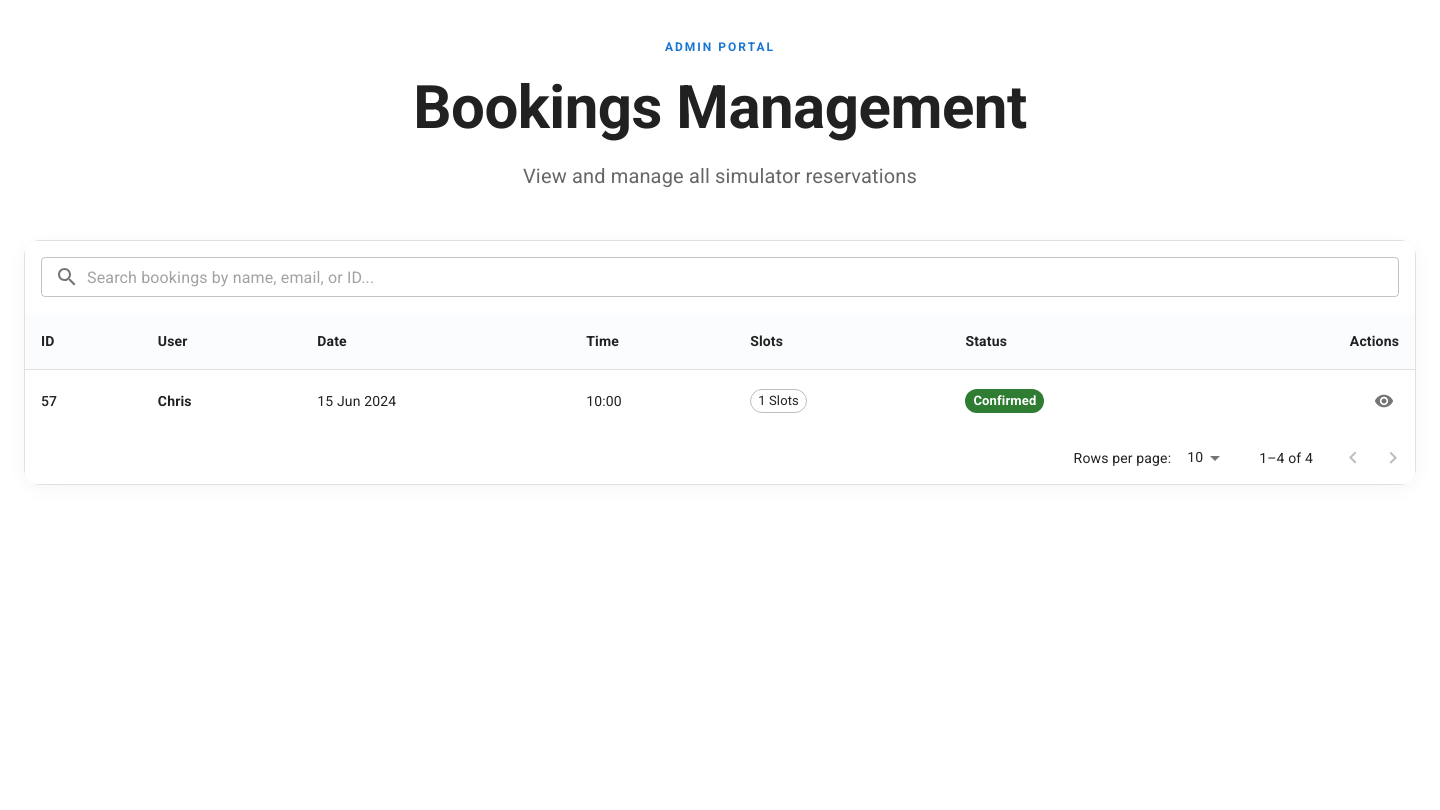
AdminBookings › uses default success copy for extend 2 hours when API omits message
Click the text "Chris": [175, 401] box x1=158 y1=393 x2=192 y2=409
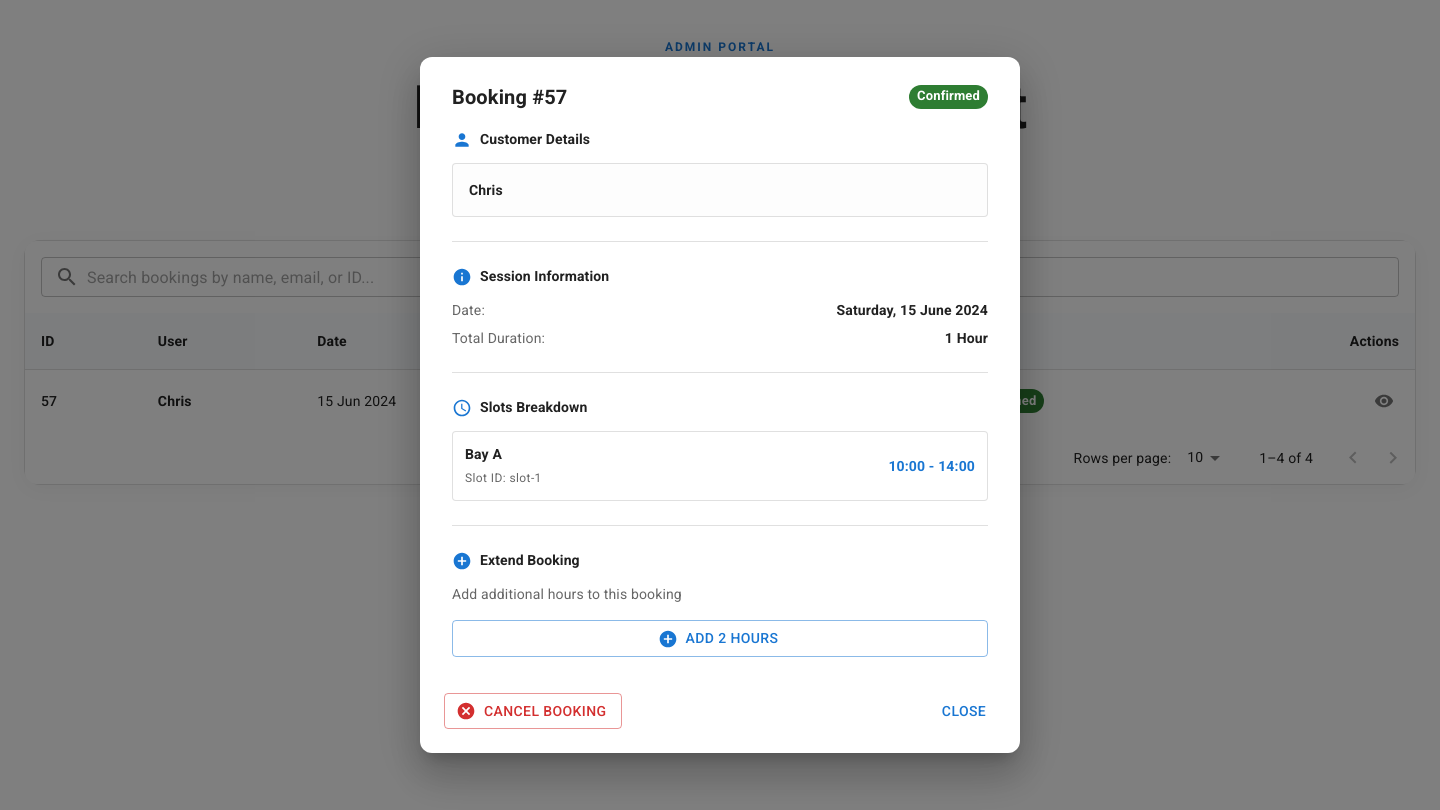
expect the button "Add 2 Hours" is shown: met
Click the button "Add 2 Hours": [720, 639] box x1=452 y1=620 x2=988 y2=657
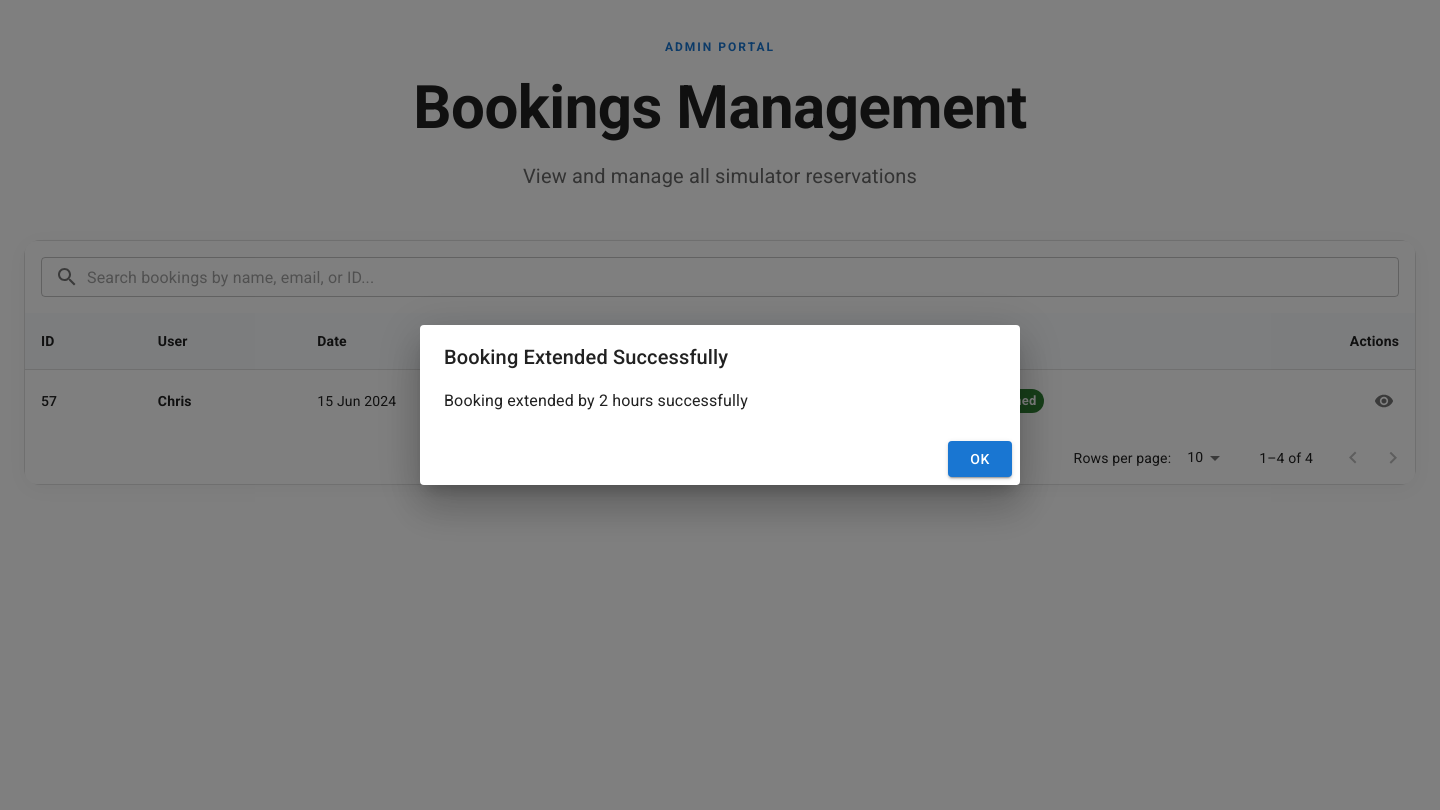
expect the text "Booking extended by 2 hours successfully" is shown: met, box x1=444 y1=391 x2=748 y2=410
